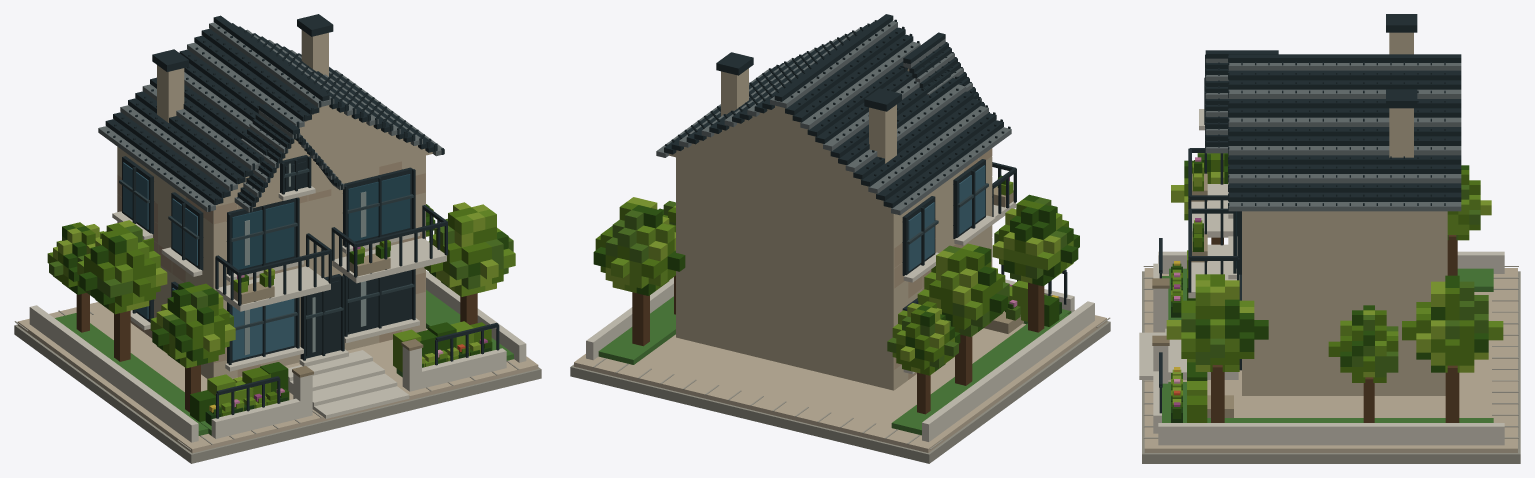
Rendered from SM_Mapa_020.fbx.
3 views of the same model, side by side, from view 1: azimuth 30°, elevation 25°; view 2: azimuth 150°, elevation 25°; view 3: azimuth 270°, elevation 25° (orthographic). The views are drawn at different scales.
Parts seen in each view (by area): view 1: SM_Mapa_020; view 2: SM_Mapa_020; view 3: SM_Mapa_020.
Part boxes in pixels (box(x1,y1,x2,y2)): SM_Mapa_020: box(14, 14, 541, 463); SM_Mapa_020: box(570, 14, 1110, 463); SM_Mapa_020: box(1139, 14, 1520, 463).
Bounding box in the file's own units: 8 × 6.92 × 6.33.
